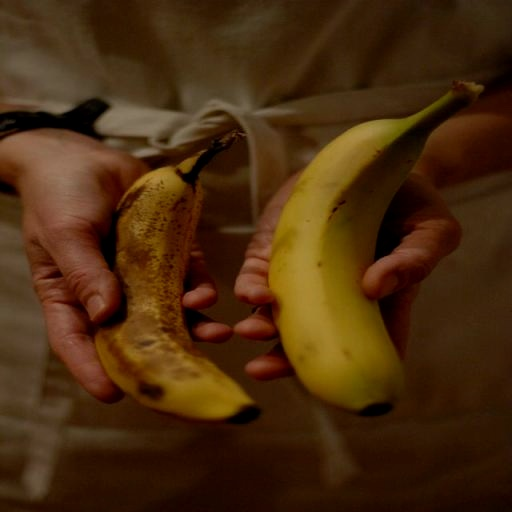fruit: (268, 82, 482, 414), (95, 132, 257, 421)
